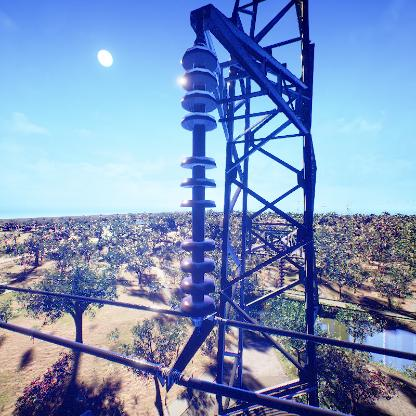insulator: (169, 41, 226, 327)
